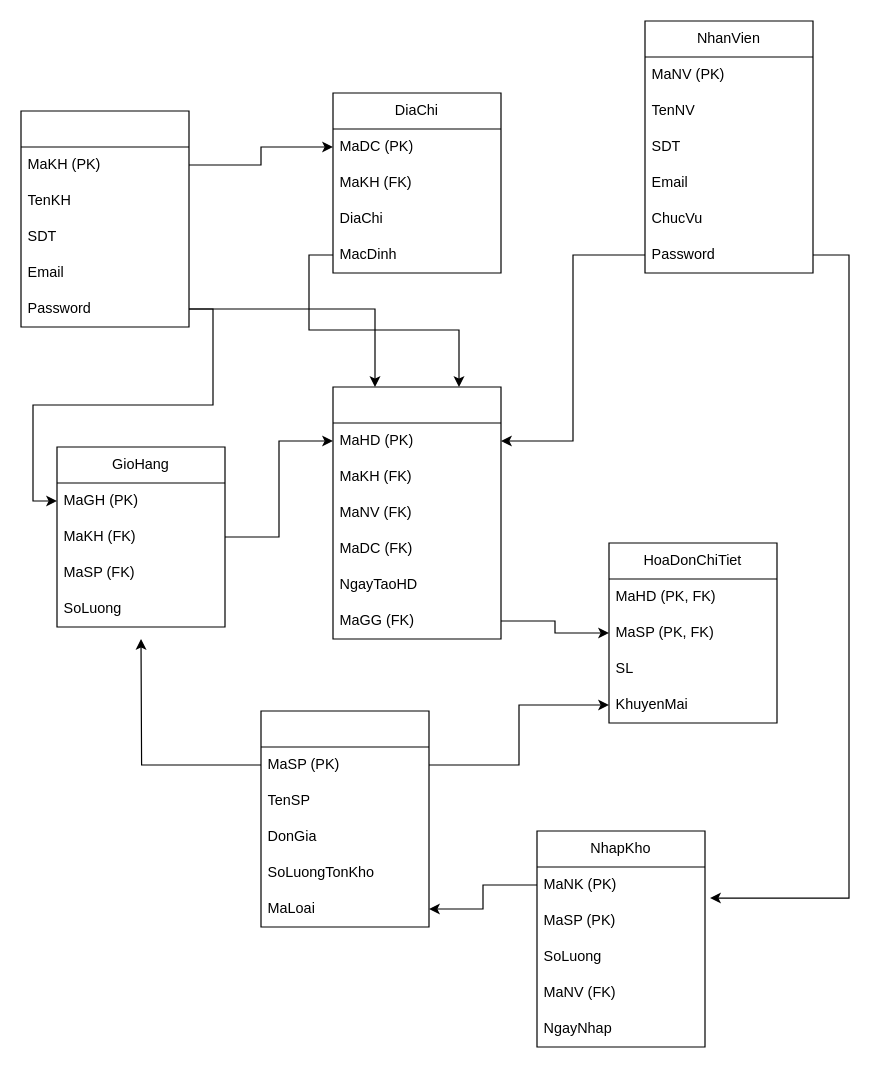
Some shapes in this 880 by 1068 pixel diagram are drawn without their labels. Each missing label, with the box of its shape:
HoaDon: (332, 386, 501, 639)
KhachHang: (20, 110, 189, 327)
SanPham: (260, 710, 429, 927)
